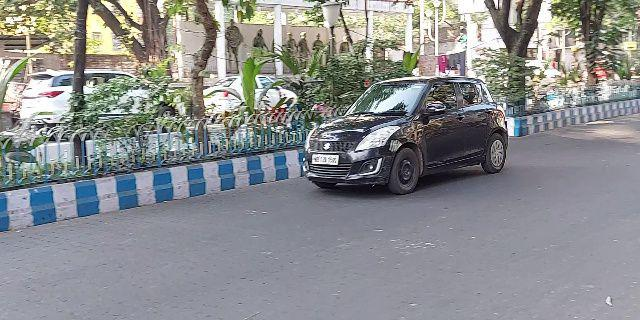Car: (298, 73, 513, 198)
